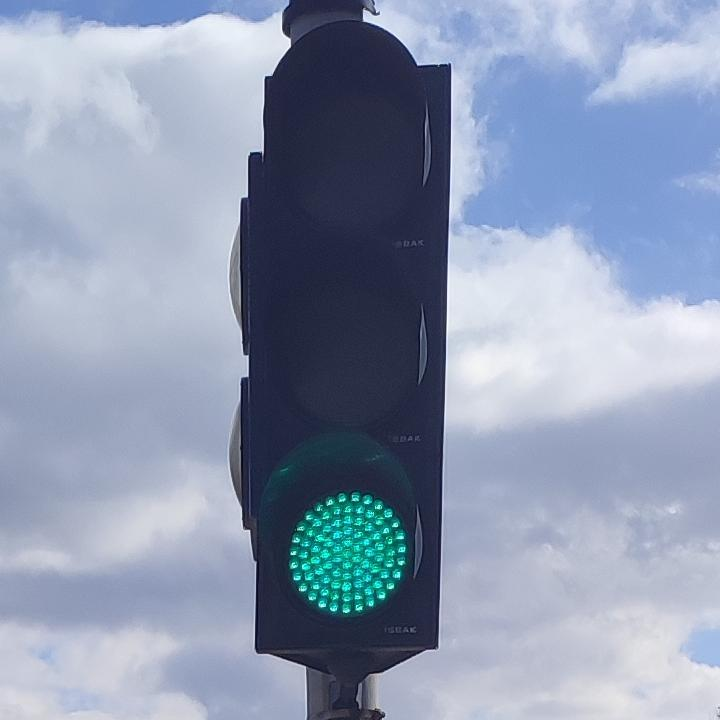green: (238, 18, 461, 690)
